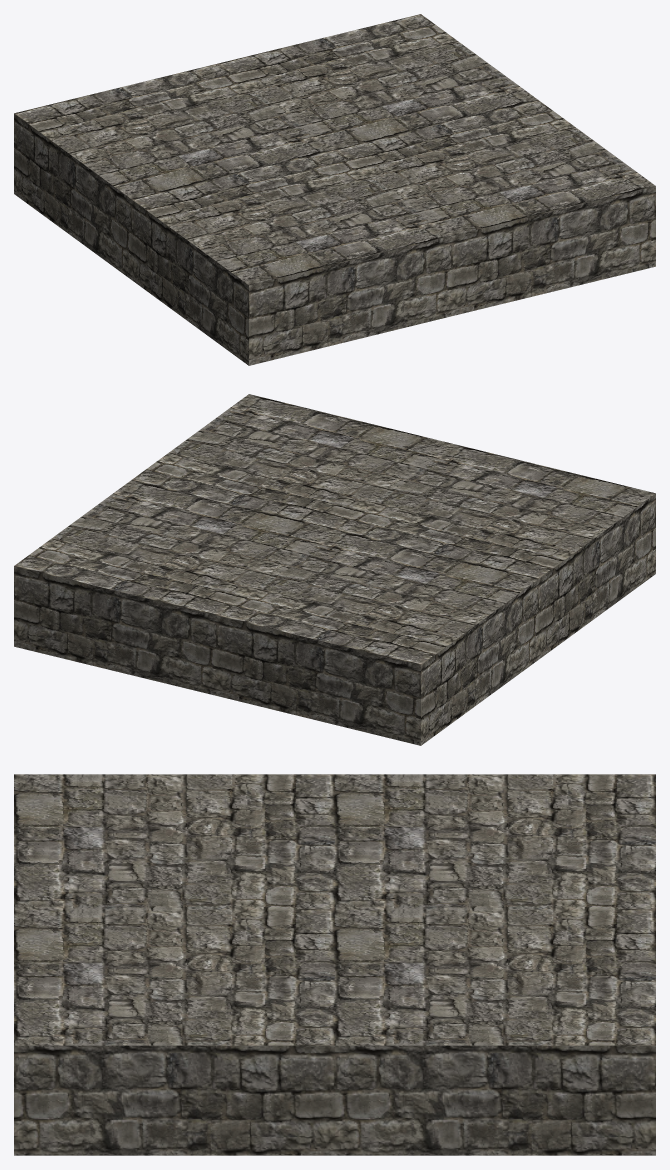
The model's file is StoneBridge_FloatingCenter.dae.
3 renders of one model, top to bottom at view 1: azimuth 30°, elevation 25°; view 2: azimuth 150°, elevation 25°; view 3: azimuth 270°, elevation 25°, orthographic. The views are drawn at different scales.
Visible parts, largest first — view 1: FloatingDoubleCenter; view 2: FloatingDoubleCenter; view 3: FloatingDoubleCenter.
Part boxes in pixels (left/top/right/bottom): FloatingDoubleCenter: left=14, top=14, right=655, bottom=365; FloatingDoubleCenter: left=14, top=394, right=655, bottom=745; FloatingDoubleCenter: left=14, top=774, right=655, bottom=1155.
Size of the model in its own units: 4 by 0.757 by 4.
2 materials, 2 textured.
